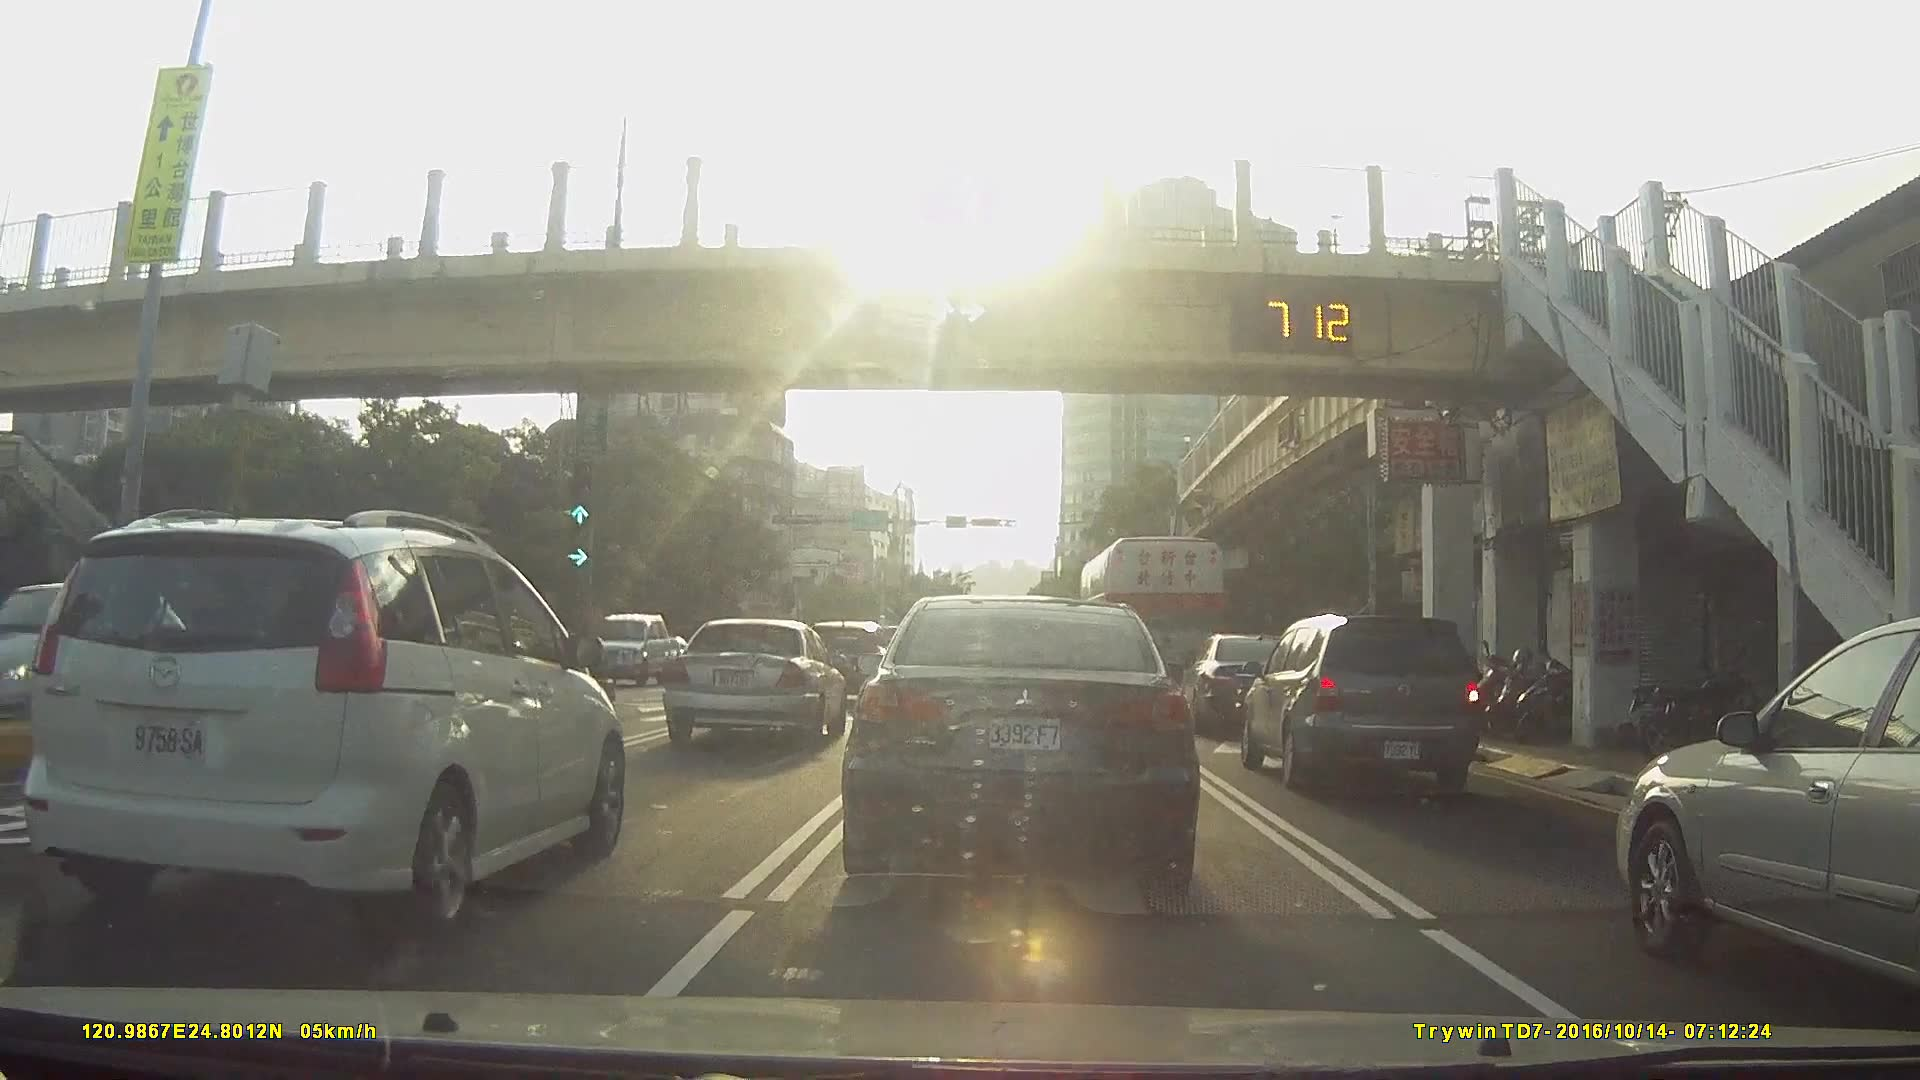vehicle: (22, 508, 626, 931), (1605, 615, 1920, 1022), (840, 589, 1196, 913), (1233, 609, 1478, 795), (1077, 535, 1225, 702), (659, 616, 845, 748), (1174, 629, 1298, 732), (574, 607, 676, 684), (783, 611, 874, 692), (640, 633, 695, 676)
